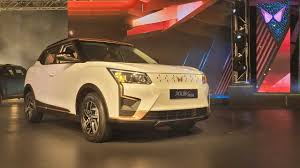XUV 400: (20, 35, 212, 144)
